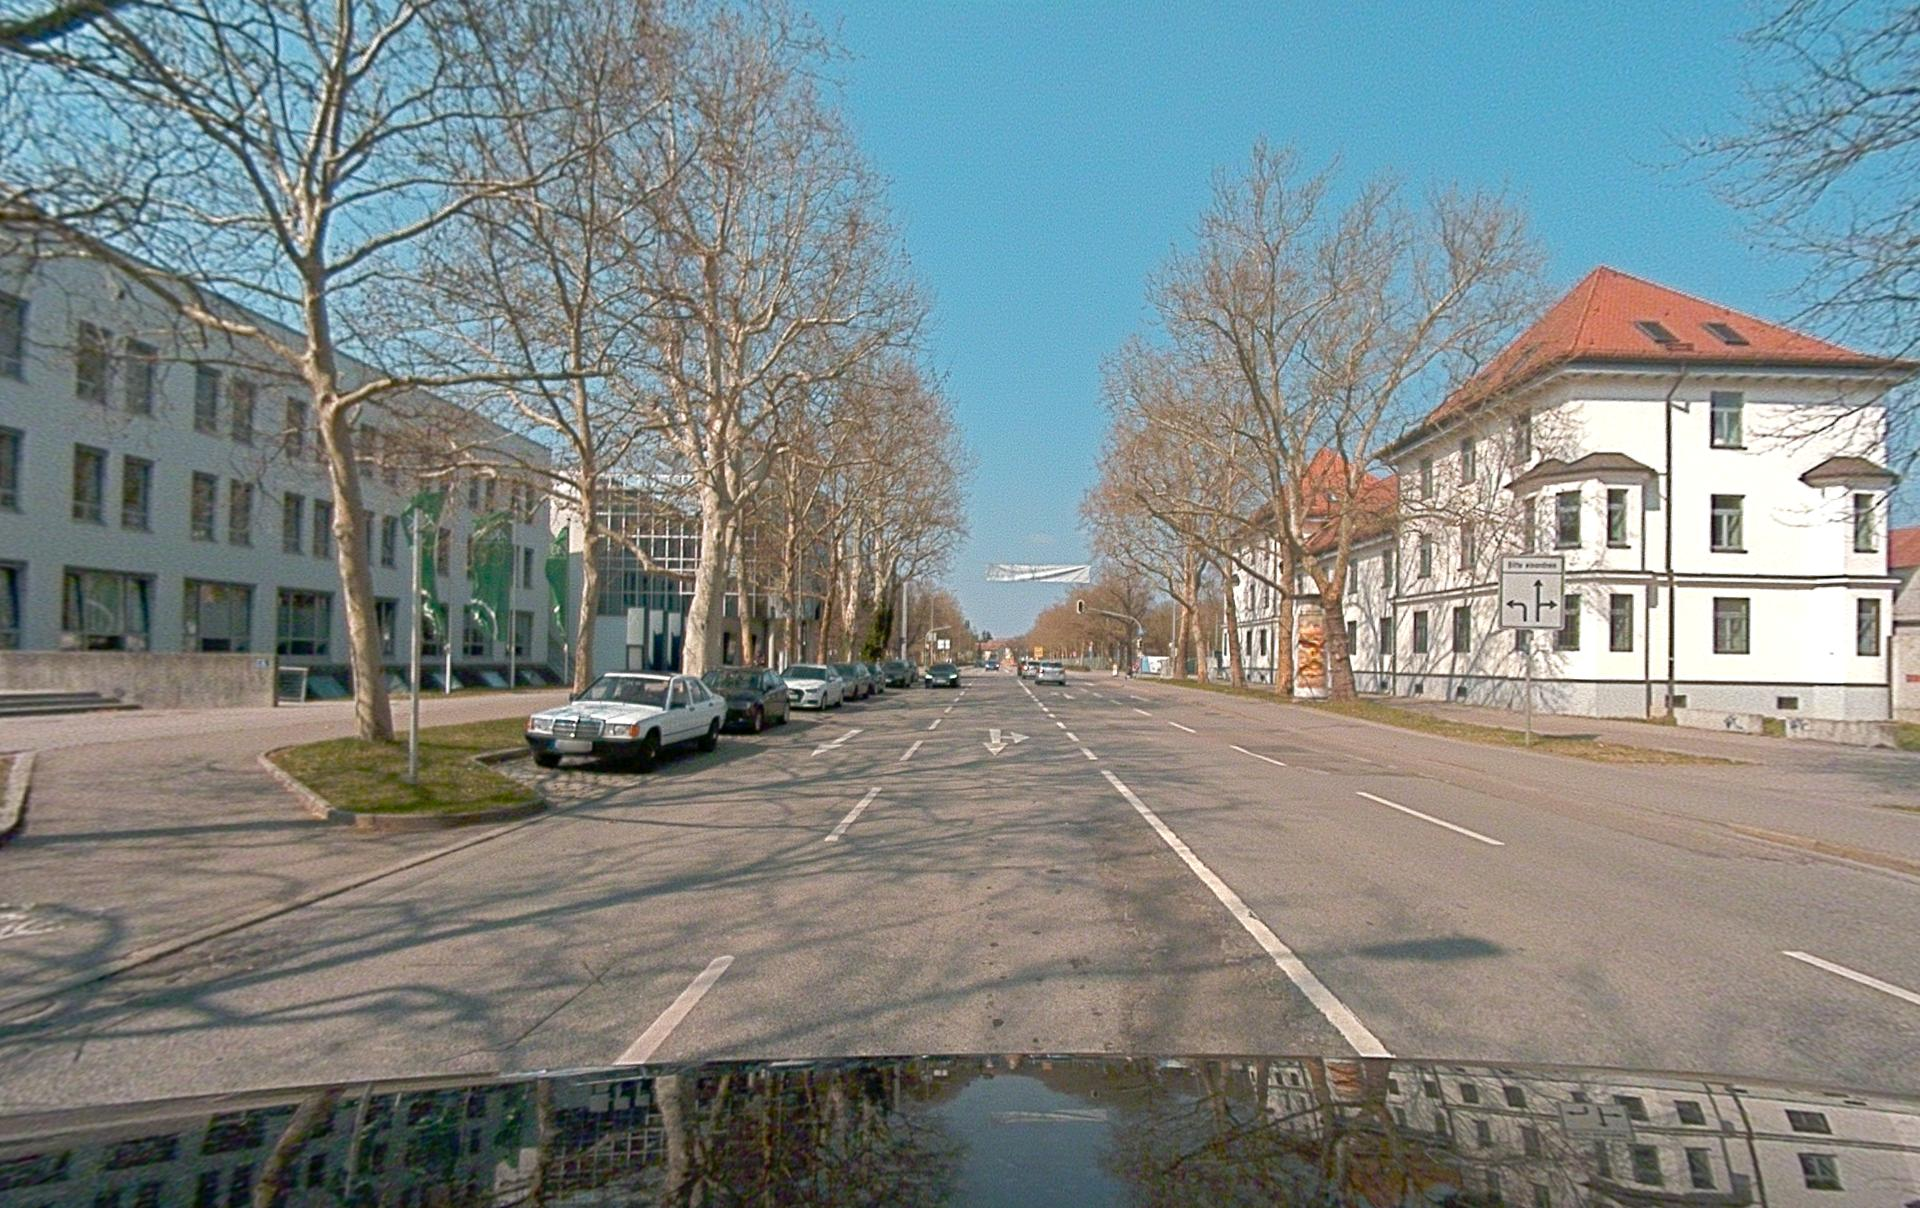car: (525, 671, 728, 771), (701, 665, 790, 733), (782, 664, 845, 710), (832, 662, 872, 700), (882, 660, 917, 688), (924, 662, 960, 688), (1034, 661, 1067, 686), (864, 664, 885, 693), (1018, 658, 1038, 678)
traffic sign: (1500, 554, 1565, 630)
